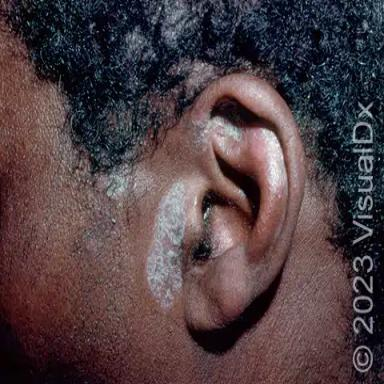Psoriasis: (147, 180, 187, 308), (186, 109, 212, 158), (101, 165, 131, 203), (213, 116, 242, 148)
